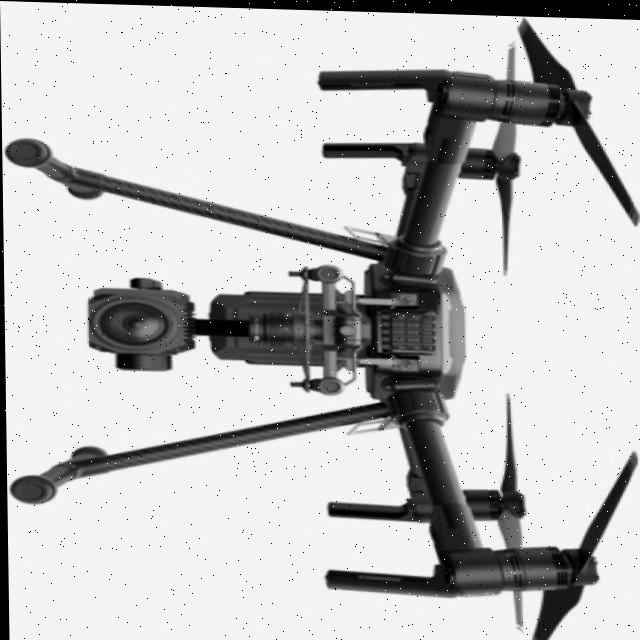drone: (261, 12, 635, 640)
